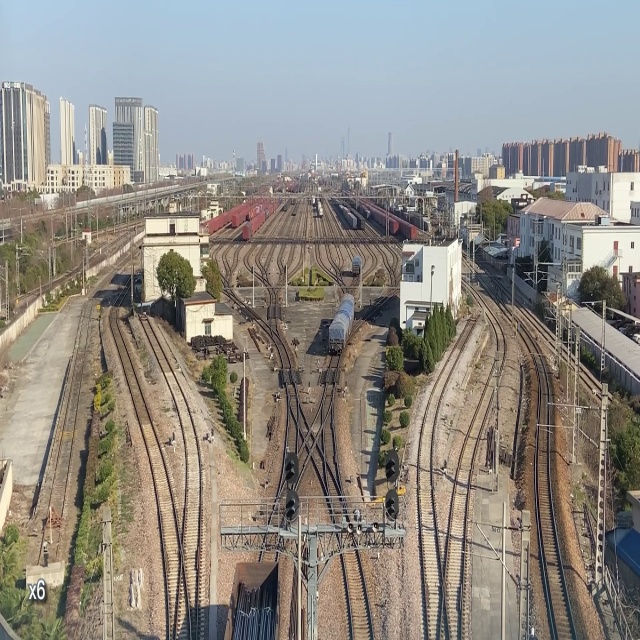train: (328, 290, 355, 355)
